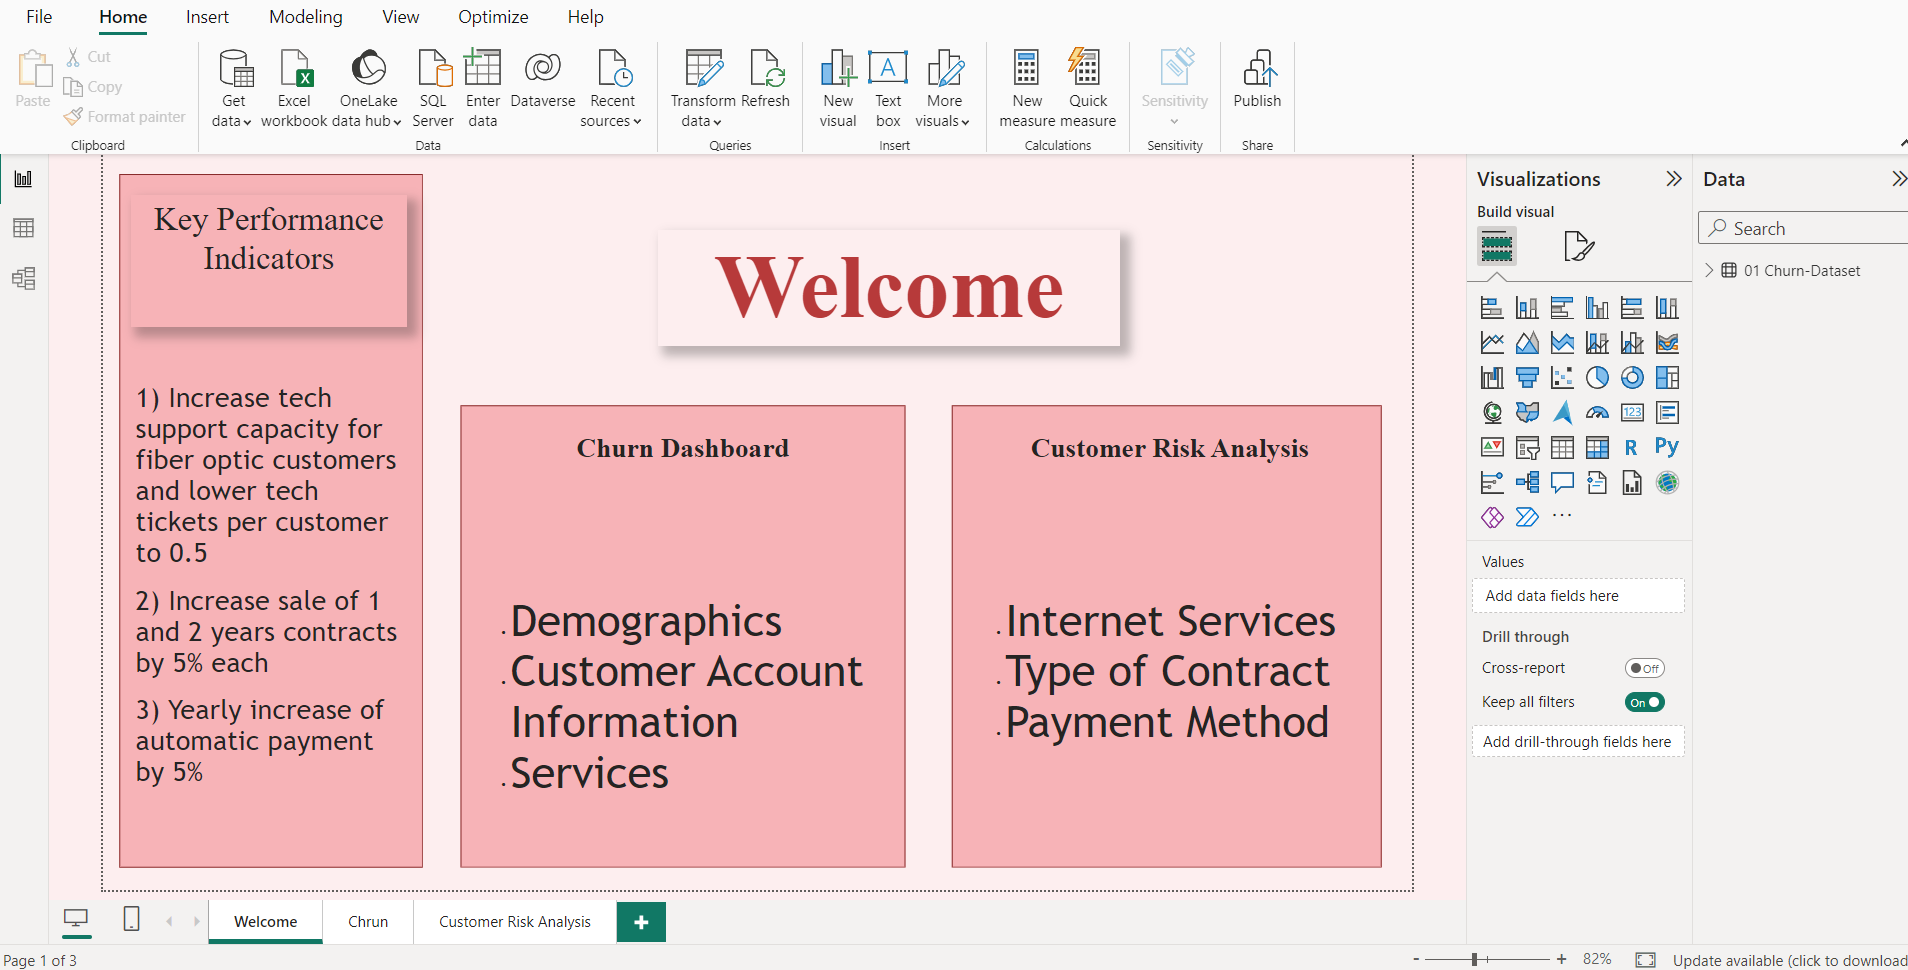

The dashboard page shown, as its layout file describes it:
{"tool":"powerbi","page":{"name":"Welcome","canvas":[1280,720],"ordinal":0},"visuals":[{"type":"shape","box":[15.9,19.6,297,678.4],"z":0},{"type":"shape","box":[349.6,245.7,435.2,452.3],"z":1000},{"type":"shape","box":[830,245.7,420.5,452.3],"z":2000},{"type":"textbox","box":[542.8,74.6,452.3,112.5],"z":3000},{"type":"textbox","box":[375.3,267.7,383.8,416.8],"z":4000},{"type":"textbox","box":[859.4,267.7,367.9,388.7],"z":5000},{"type":"textbox","box":[27.4,39.8,270.3,129],"z":6000},{"type":"textbox","box":[26.9,217.6,270.2,438.8],"z":6001}]}

Visuals, with their boxes on the page's 1280x720 design canvas (x1, y1, x2, y2). These are canvas units, not pixel positions in the 1908x970 screenshot, which may show the page scaled, cropped or inside an application window:
shape: x1=16 y1=20 x2=313 y2=698
shape: x1=350 y1=246 x2=785 y2=698
shape: x1=830 y1=246 x2=1250 y2=698
textbox: x1=543 y1=75 x2=995 y2=187
textbox: x1=375 y1=268 x2=759 y2=684
textbox: x1=859 y1=268 x2=1227 y2=656
textbox: x1=27 y1=40 x2=298 y2=169
textbox: x1=27 y1=218 x2=297 y2=656
